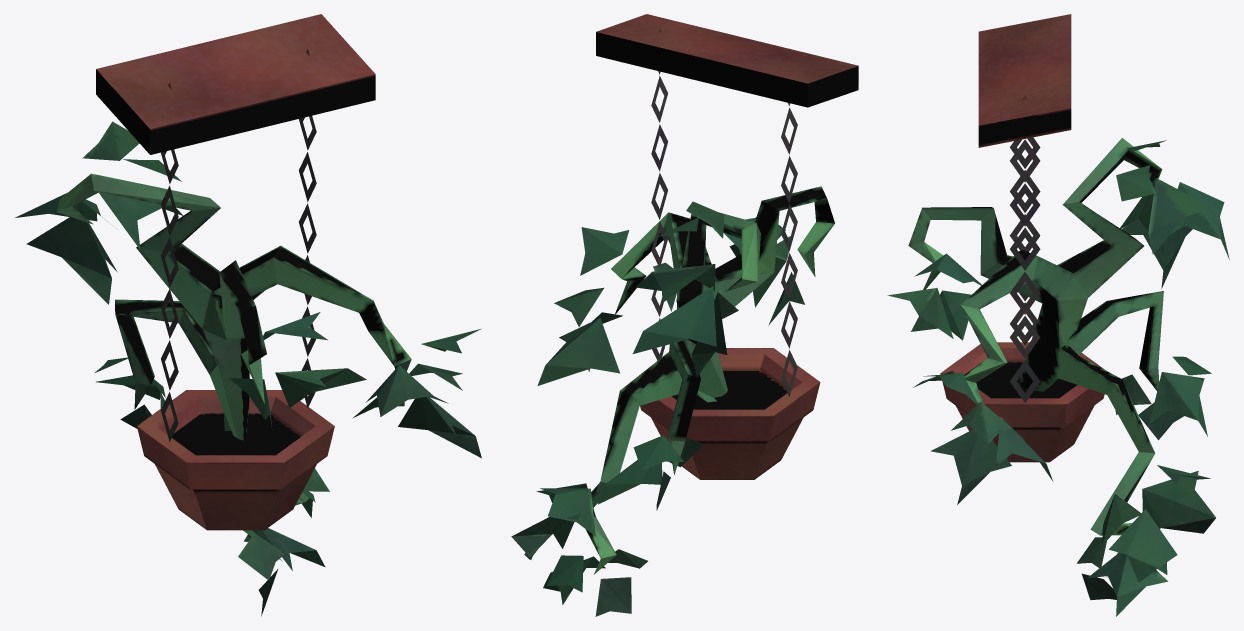
File: 0swing.fbx_plant1.fbx
3 renders of one model, left to right at view 1: azimuth 30°, elevation 25°; view 2: azimuth 150°, elevation 25°; view 3: azimuth 270°, elevation 25°, orthographic. The views are drawn at different scales.
Visible parts, largest first — view 1: Hangingplant1, Objectninthplant; view 2: Objectninthplant, Hangingplant1; view 3: Objectninthplant, Hangingplant1.
Boxes of the visible parts, x1,y1,x2,y2 form: Hangingplant1: [96, 14, 375, 530]; Objectninthplant: [15, 121, 481, 616]; Objectninthplant: [511, 186, 834, 616]; Hangingplant1: [596, 14, 858, 479]; Objectninthplant: [887, 138, 1229, 616]; Hangingplant1: [940, 14, 1104, 462].
Size of the model in its own units: 298 by 535 by 324.
